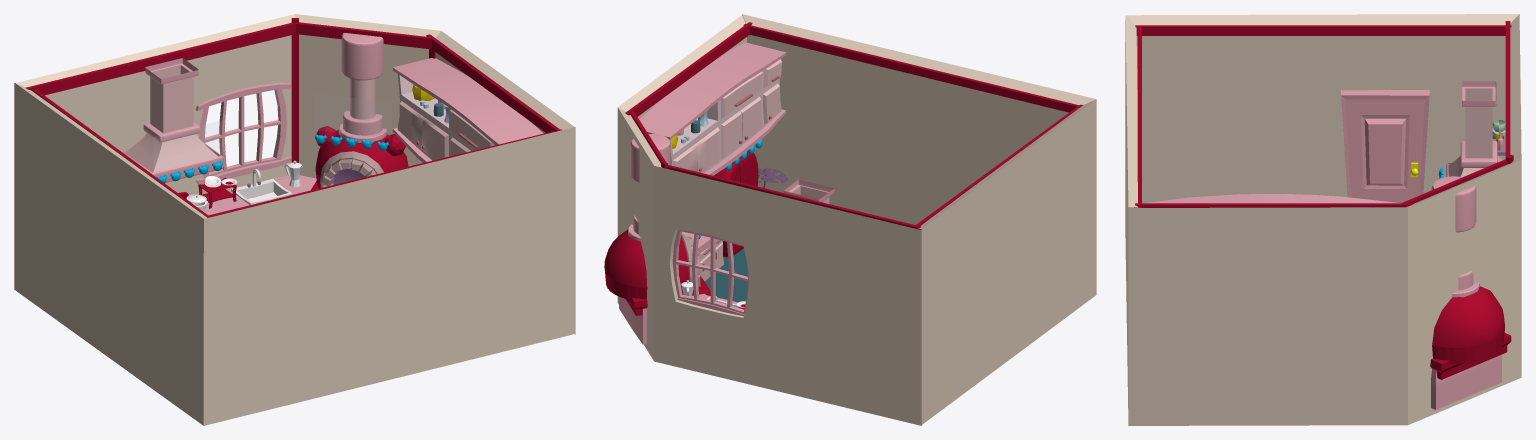
The model's file is kitche_v06_combine.fbx.
3 renders of one model, left to right at view 1: azimuth 30°, elevation 25°; view 2: azimuth 150°, elevation 25°; view 3: azimuth 270°, elevation 25°, orthographic. The views are drawn at different scales.
Parts seen in each view (by area): view 1: wall2, wall1, molding1, storage_upper, pCylinder26, oven_n_hood, score_3 (×2), window2, storage_L, dishes; view 2: wall2, wall1, storage_upper, molding1, pCylinder26, window2, floor, refri_door, storage_R, oven_n_hood, storage_door_L, storage_door_R; view 3: wall1, wall2, door, pCylinder26, molding1, oven_n_hood, storage_upper, shelf_3.
Boxes of the visible parts, bbox=[...] form: wall2: bbox=[14, 82, 575, 425]; wall1: bbox=[14, 14, 575, 334]; molding1: bbox=[25, 18, 561, 217]; storage_upper: bbox=[392, 58, 543, 162]; pCylinder26: bbox=[310, 33, 408, 190]; oven_n_hood: bbox=[122, 58, 223, 199]; score_3 (×2): bbox=[154, 94, 389, 172]; window2: bbox=[195, 82, 291, 184]; storage_L: bbox=[205, 169, 316, 215]; dishes: bbox=[198, 176, 237, 208]; wall2: bbox=[742, 14, 1096, 424]; wall1: bbox=[617, 15, 921, 425]; storage_upper: bbox=[639, 42, 786, 175]; molding1: bbox=[625, 22, 1082, 229]; pCylinder26: bbox=[604, 133, 710, 344]; window2: bbox=[672, 229, 749, 315]; floor: bbox=[705, 248, 747, 302]; refri_door: bbox=[719, 151, 758, 186]; storage_R: bbox=[681, 231, 723, 281]; oven_n_hood: bbox=[783, 179, 834, 203]; storage_door_L: bbox=[721, 111, 742, 159]; storage_door_R: bbox=[740, 96, 761, 143]; wall1: bbox=[1128, 15, 1521, 425]; wall2: bbox=[1125, 14, 1519, 407]; door: bbox=[1341, 90, 1429, 203]; pCylinder26: bbox=[1430, 176, 1511, 409]; molding1: bbox=[1134, 21, 1513, 207]; oven_n_hood: bbox=[1446, 81, 1502, 176]; storage_upper: bbox=[1144, 194, 1399, 203]; shelf_3: bbox=[1492, 120, 1505, 155].
Bounding box in the file's own units: 3896 × 2060 × 3378.
